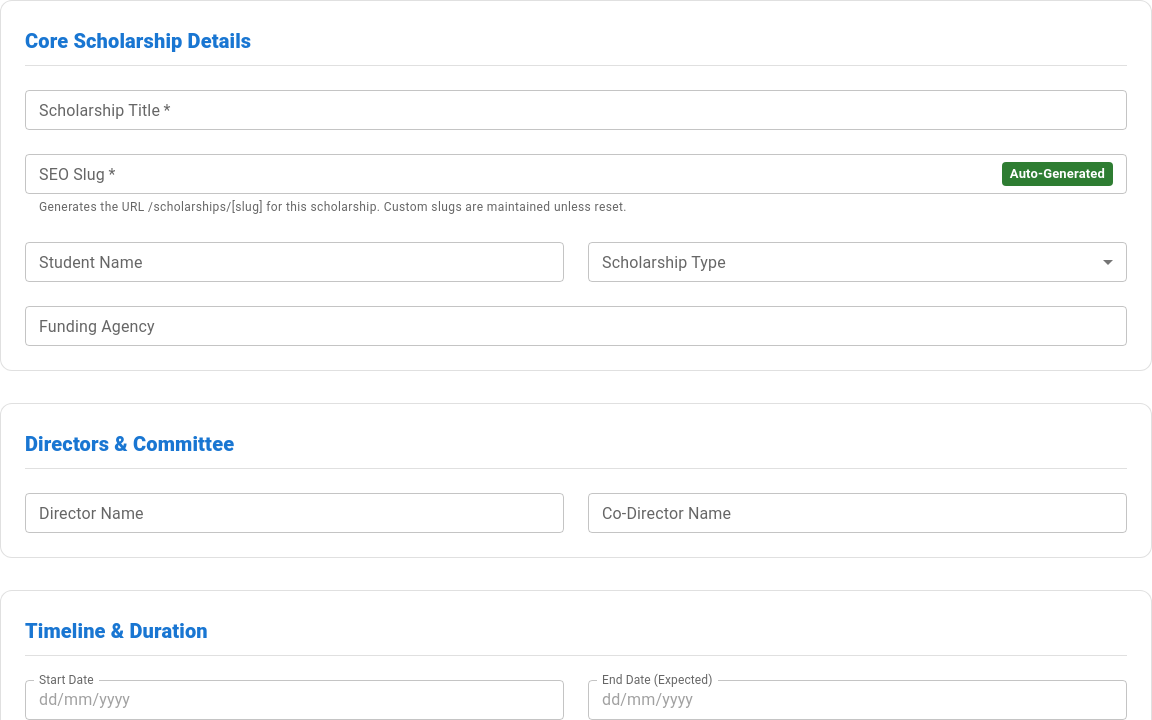
Test: ScholarshipForm Component › stops auto-generating slug if user manually overrides it, and resets when Reset Auto is clicked
In the field labelled "Scholarship Title *": (576, 110) [25,90,1127,130], type "New Scholarship Title"
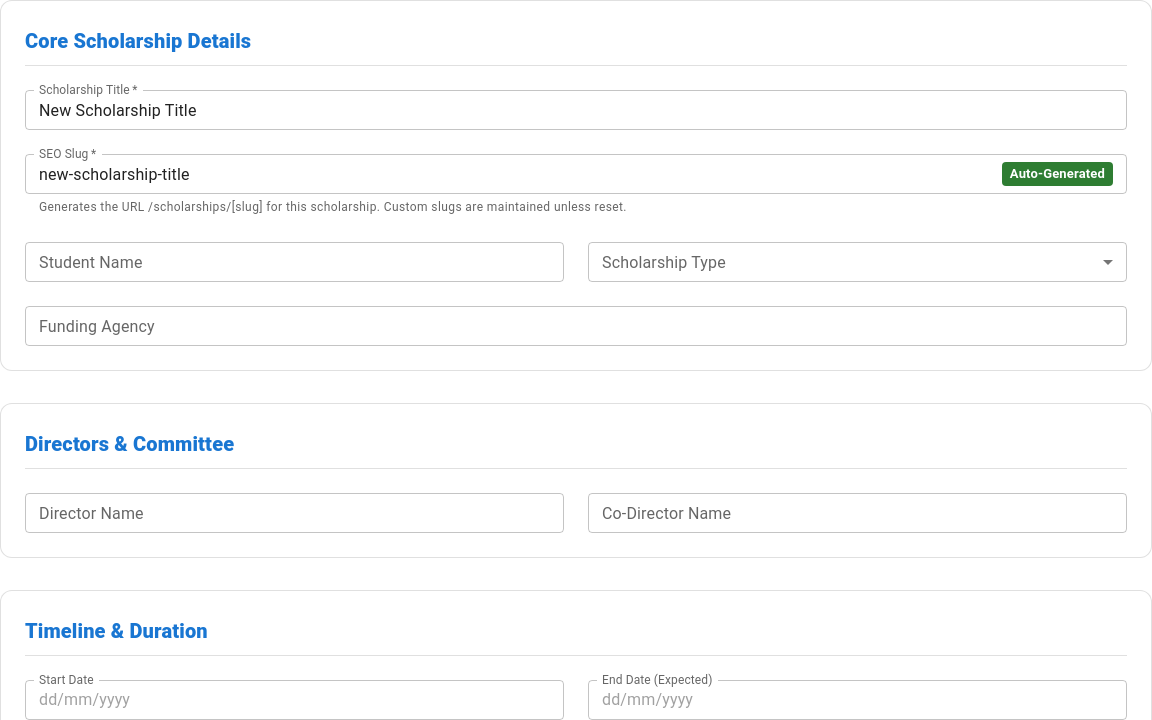
Result: the field labelled "SEO Slug *" holds "new-scholarship-title"
Override manually
Replace the text in the field labelled "SEO Slug *" with "custom-slug-value": (509, 174) [25,154,994,194]
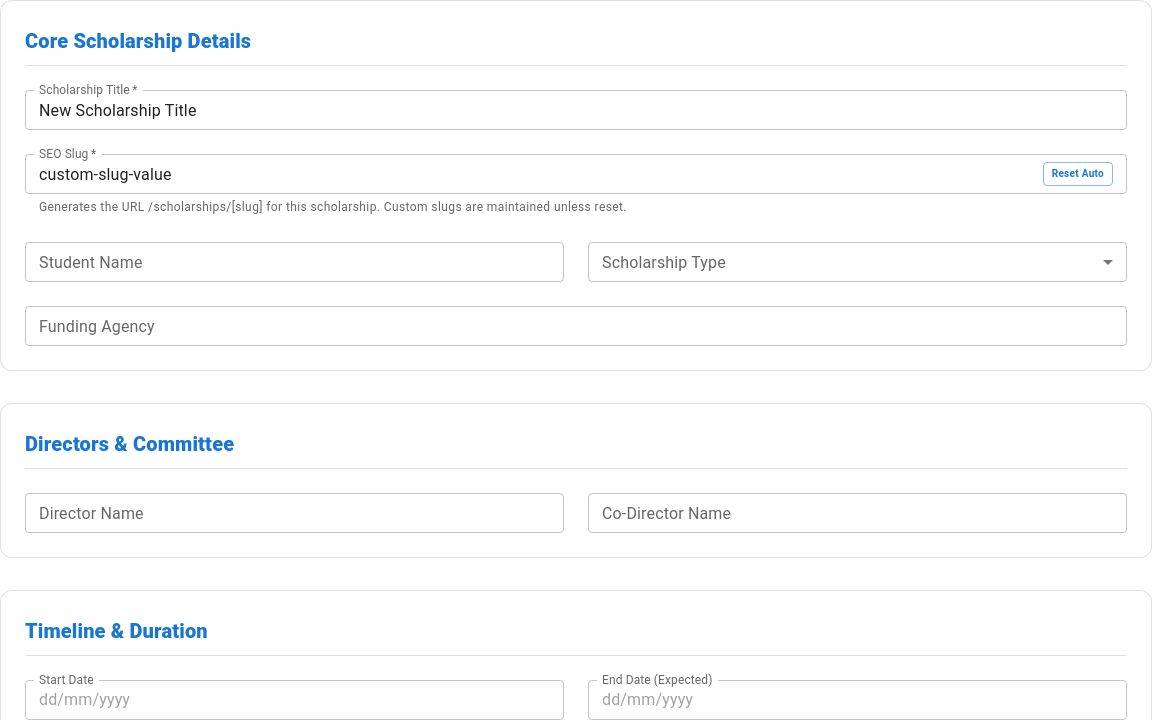
Result: the button "Reset Auto" is shown at [1043,162,1113,186]
Change title and check it does not auto-update anymore
Replace the text in the field labelled "Scholarship Title *" with "Another Scholarship": (576, 110) [25,90,1127,130]
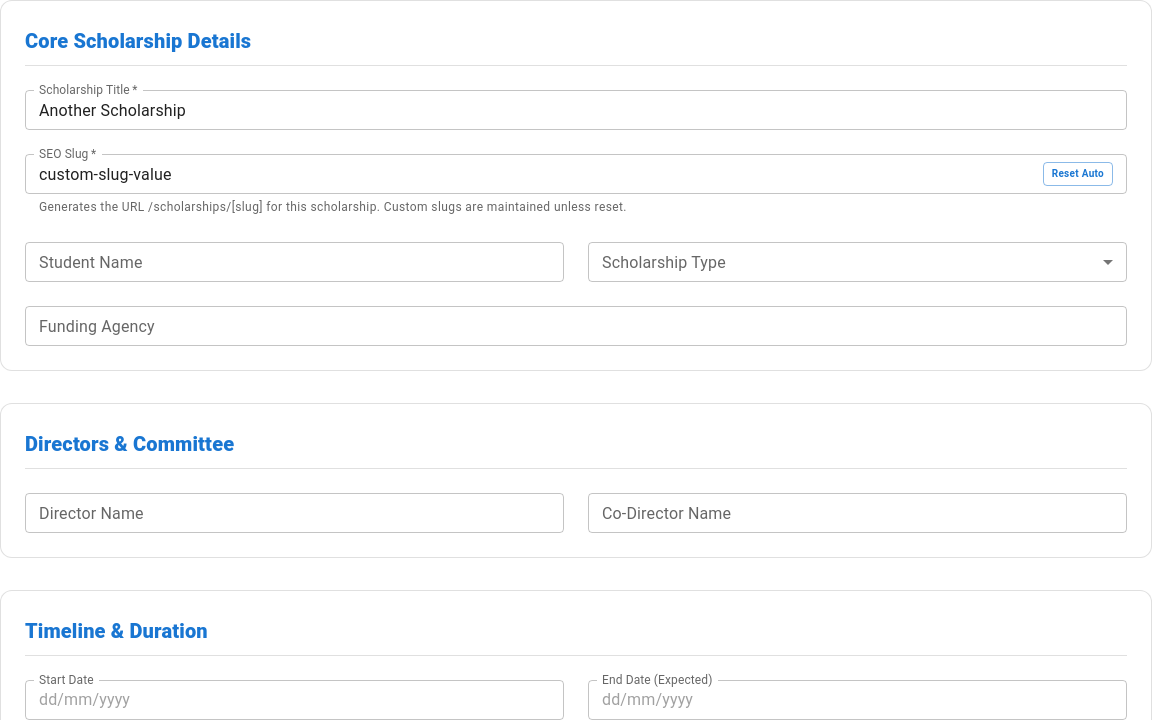
Click reset auto and verify it generates another-scholarship
Click the button "Reset Auto": (1078, 174) [1043,162,1113,186]
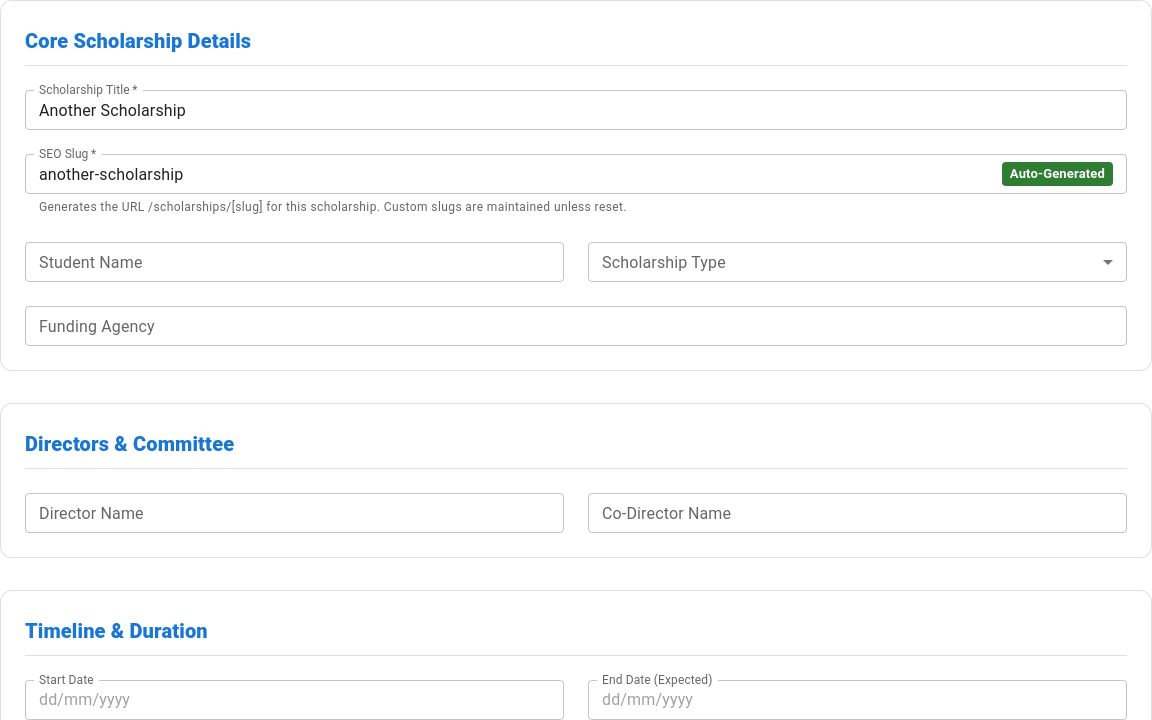
Result: the field labelled "SEO Slug *" holds "another-scholarship" at [25,154,994,194]
